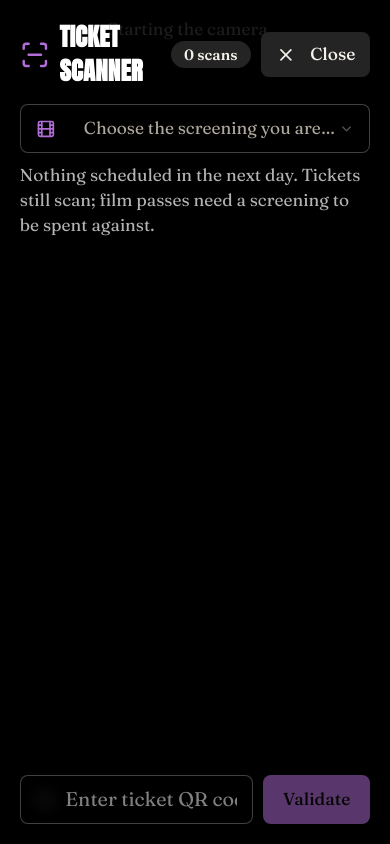
it: TicketScanner - GA, event, and concert tickets › accepts an event ticket (no movie)
The width and height of the screenshot is (390, 844).
Step 1. Type "QR-EVENT" into the field with placeholder "Enter ticket QR code..." → point(137, 799), box [20,775,253,824]
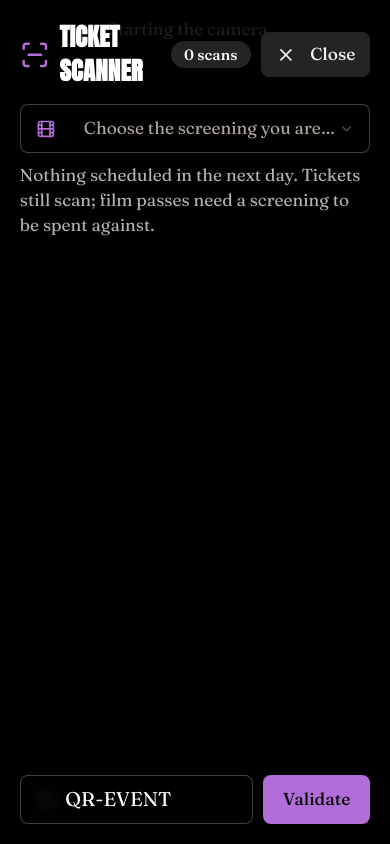
Step 2. Click the button "Validate" → point(317, 799), box [263,775,370,824]
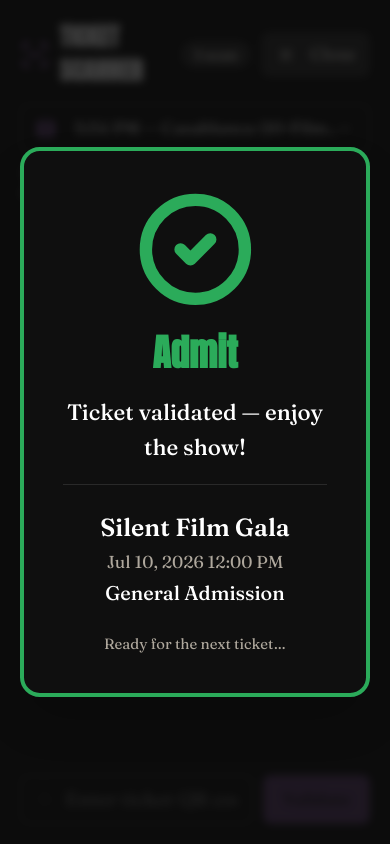
Expected: the text "Ticket validated — enjoy the show!" is shown, [63,395,327,464]
Expected: the text "Silent Film Gala" is shown, [100,512,290,542]
